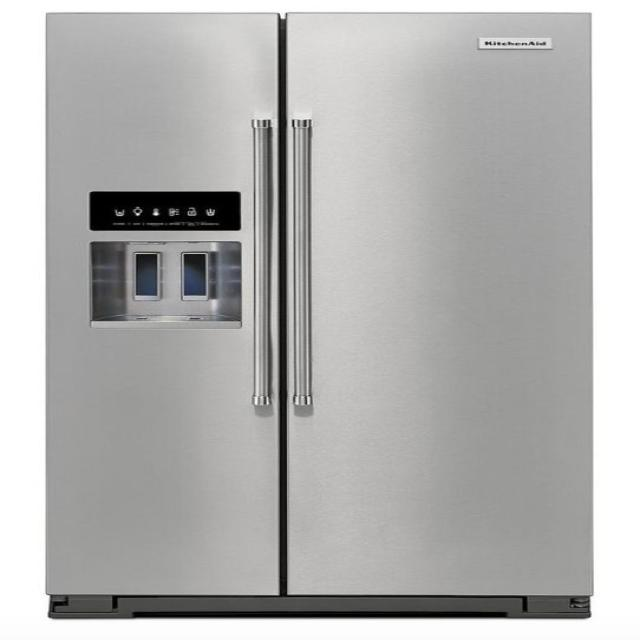obstacle: (42, 11, 594, 619)
